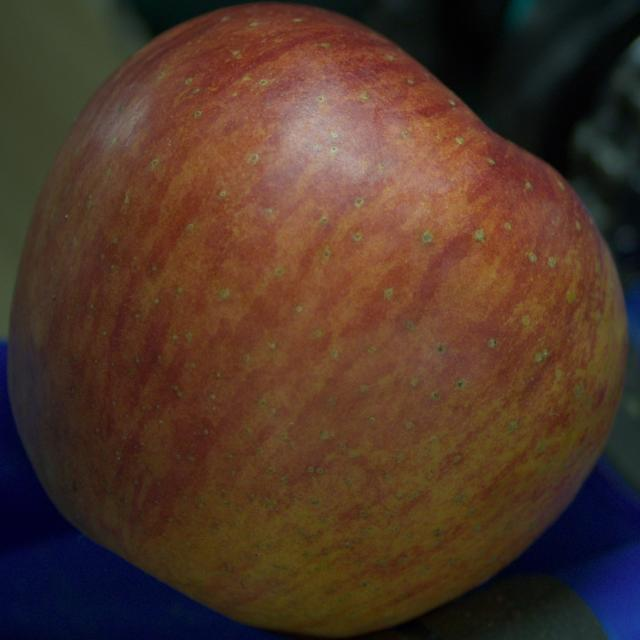apple: (7, 4, 627, 637)
